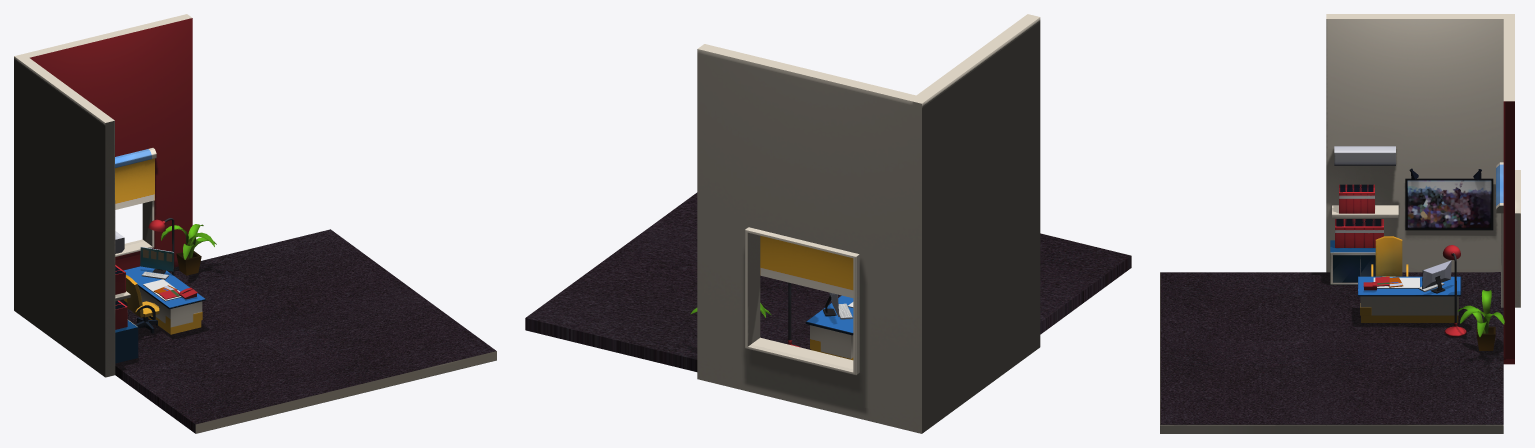
Rendered from Tx_Interior_Work_FancyOffice_1.fbx.
3 views of the same model, side by side, from view 1: azimuth 30°, elevation 25°; view 2: azimuth 150°, elevation 25°; view 3: azimuth 270°, elevation 25° (orthographic). The views are drawn at different scales.
Visible parts, largest first — view 1: polySurface335, polySurface359, polySurface343, Bookselves, Plant1, polySurface356, polySurface352; view 2: polySurface335, polySurface343, polySurface359; view 3: polySurface335, SIgnature, Bookselves, polySurface359, polySurface333, polySurface352, Plant1, polySurface356, polySurface337.
Part boxes in pixels (x1,y1,x2,y2): polySurface335: (14, 14, 496, 433); polySurface359: (123, 266, 205, 334); polySurface343: (115, 158, 154, 209); Bookselves: (115, 265, 138, 363); Plant1: (161, 224, 216, 275); polySurface356: (140, 247, 174, 271); polySurface352: (126, 275, 143, 317); polySurface335: (525, 14, 1131, 433); polySurface343: (760, 235, 853, 297); polySurface359: (805, 295, 853, 360); polySurface335: (1160, 14, 1520, 433); SIgnature: (1405, 168, 1493, 230); Bookselves: (1330, 184, 1398, 284); polySurface359: (1358, 276, 1461, 322); polySurface333: (1334, 146, 1395, 165); polySurface352: (1375, 236, 1402, 276); Plant1: (1457, 290, 1504, 350); polySurface356: (1422, 260, 1451, 289); polySurface337: (1444, 252, 1466, 336).
Bounding box in the file's own units: 40.4 × 31.58 × 39.24.
1 material, 1 textured.
